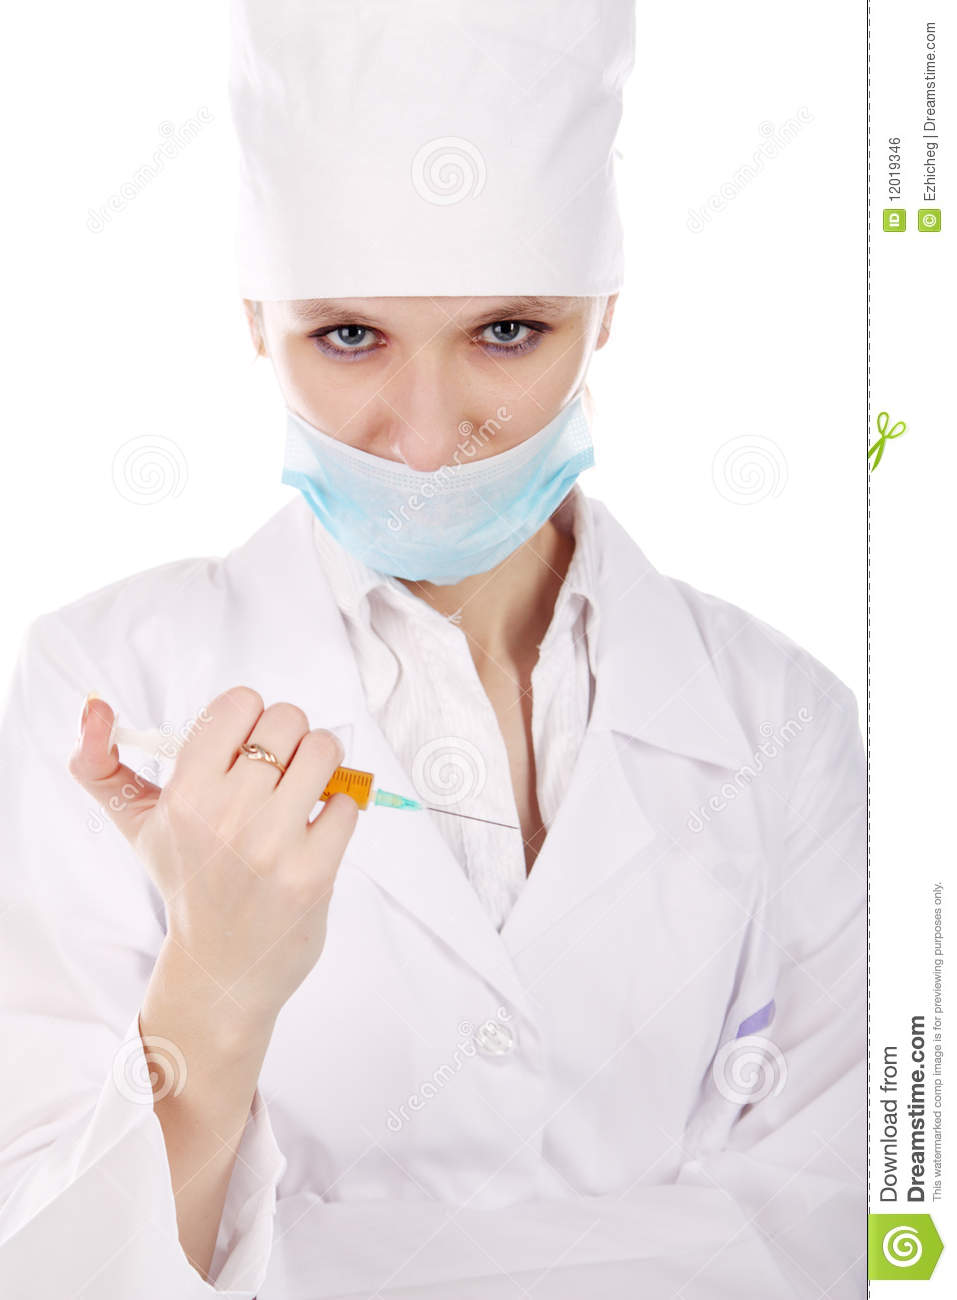mask: (288, 425, 614, 617)
